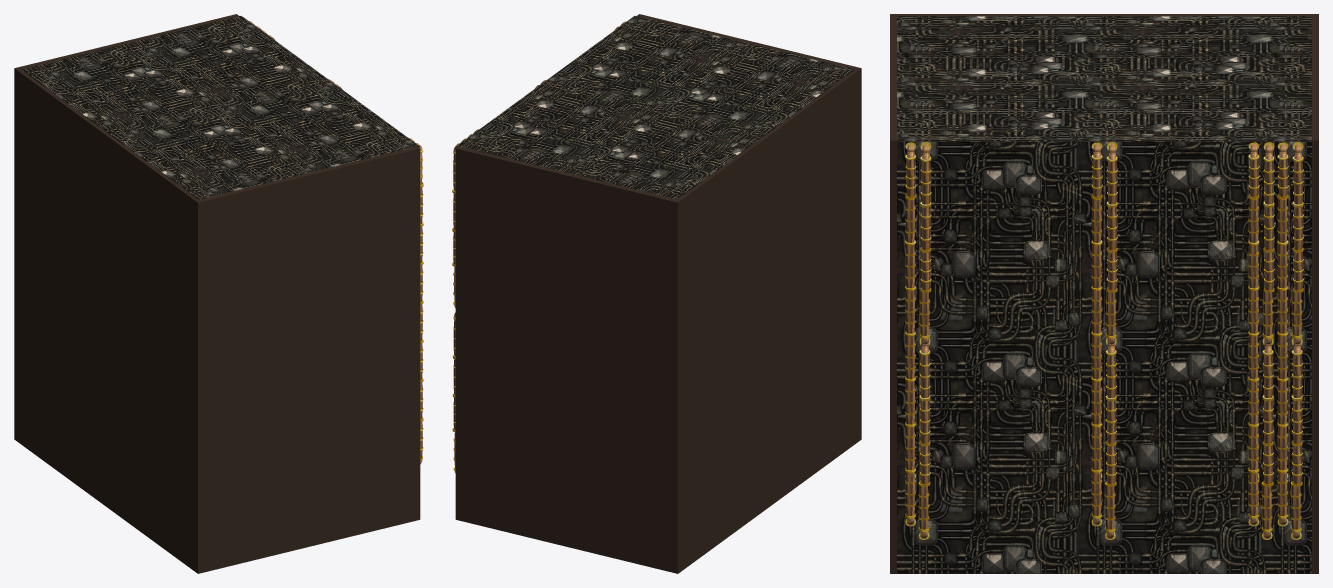
Rendered from Climbing Pipes.fbx.
3 views of the same model, side by side, from view 1: azimuth 30°, elevation 25°; view 2: azimuth 150°, elevation 25°; view 3: azimuth 270°, elevation 25° (orthographic). The views are drawn at different scales.
Parts seen in each view (by area): view 1: pCube2, pCube1; view 2: pCube2, pCube1; view 3: pCube1, pCube2.
Part boxes in pixels (x1=…): pCube2: x1=14, y1=14, x2=420, y2=573; pCube1: x1=21, y1=15, x2=419, y2=199; pCube2: x1=455, y1=14, x2=861, y2=573; pCube1: x1=456, y1=16, x2=854, y2=199; pCube1: x1=897, y1=16, x2=1311, y2=573; pCube2: x1=890, y1=14, x2=1318, y2=573.
Bounding box in the file's own units: 9.83 × 14.9 × 13.36.
